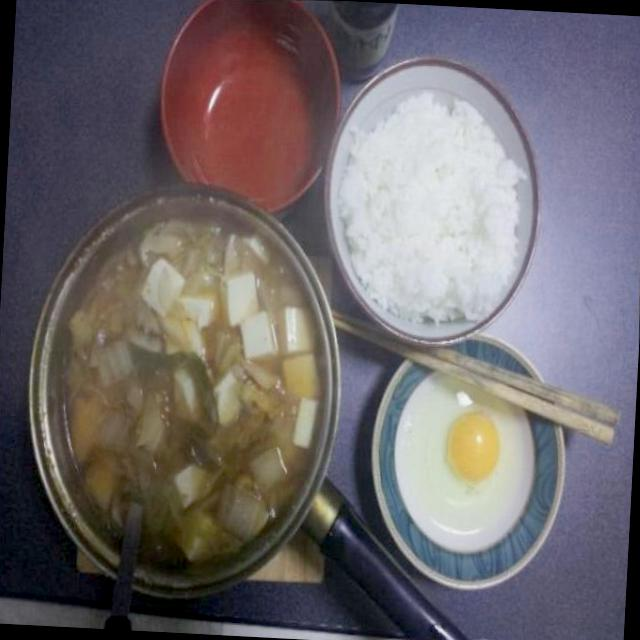Egg: (385, 364, 538, 562)
Rice: (335, 80, 531, 325)
